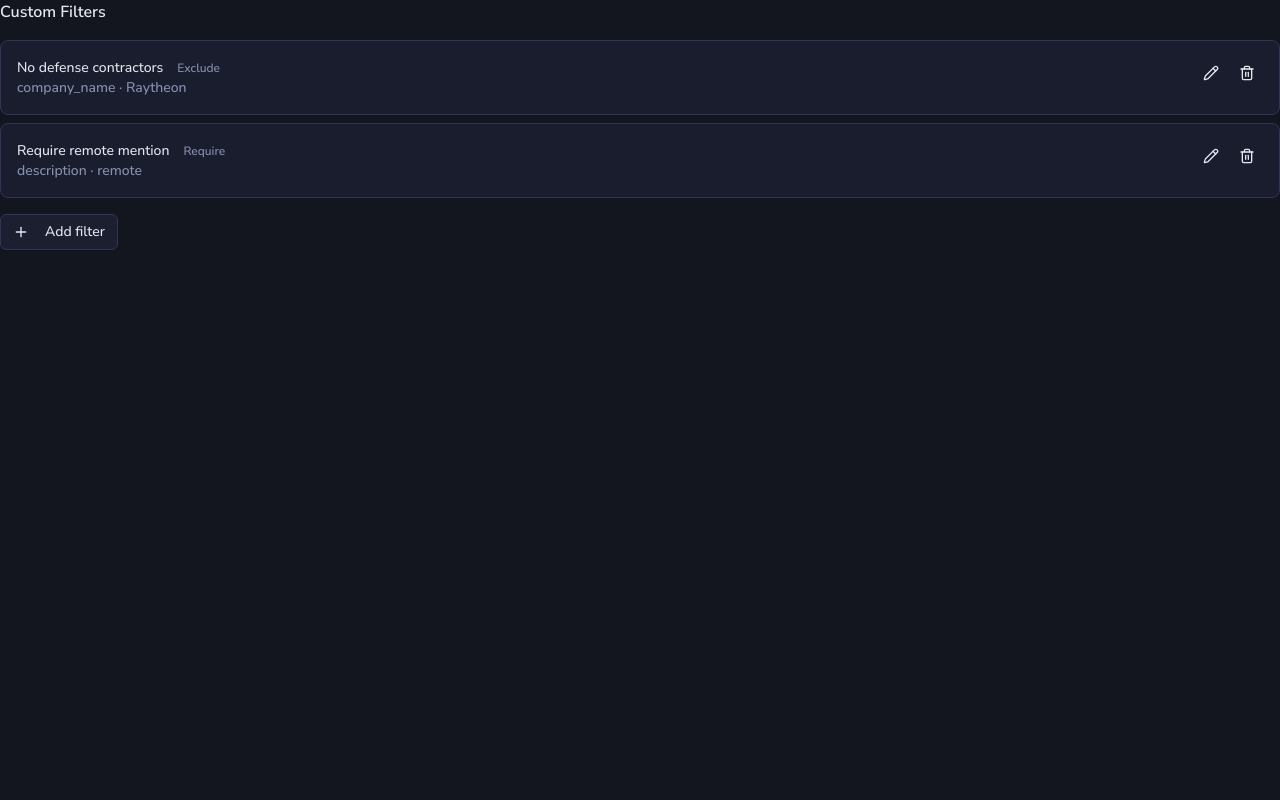
Test: CustomFiltersSection › delete flow › opens confirmation dialog on delete click
Click the button named "delete no defense contractors".
click(1247, 73)  # box [1231,57,1263,89]
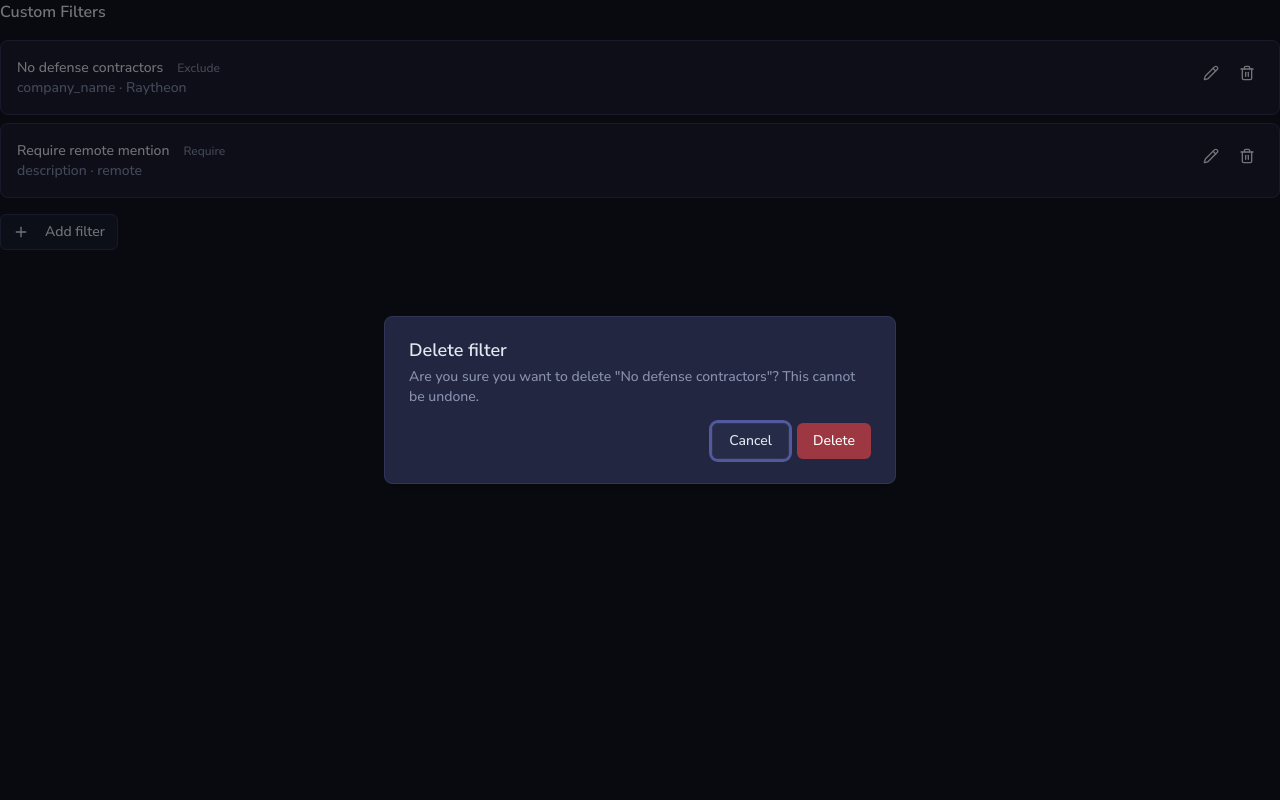
Expected: the text "Are you sure you want to delete" is shown, [409,367,855,406]
